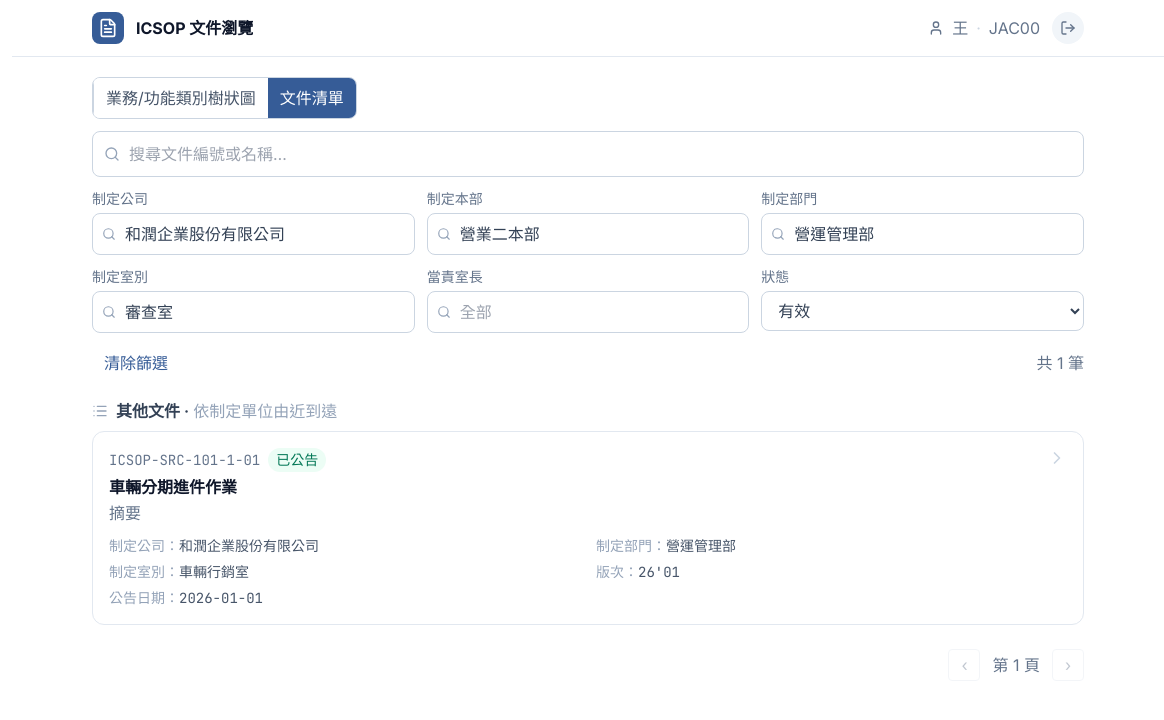
Test: AC-OC3：改上級清下級（同一次寫入網址） › 改公司 ⇒ mkdiv／mkdept／section 自網址移除
Expected: the heading "車輛分期進件作業" is shown, [109,477,237,497]
Click the dropdown labelled "制定公司" at [253, 234], box [92,213,415,255]
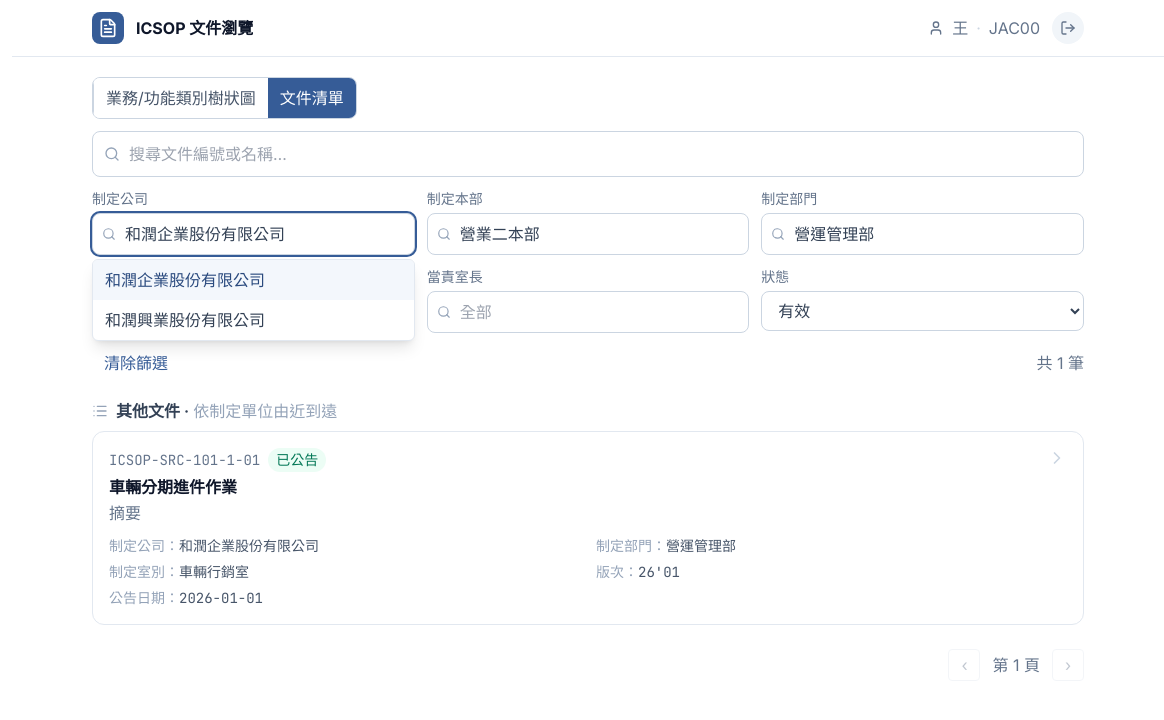
Click the option "和潤興業股份有限公司" at [253, 320], box [93,300,414,340]
(page scrolled)
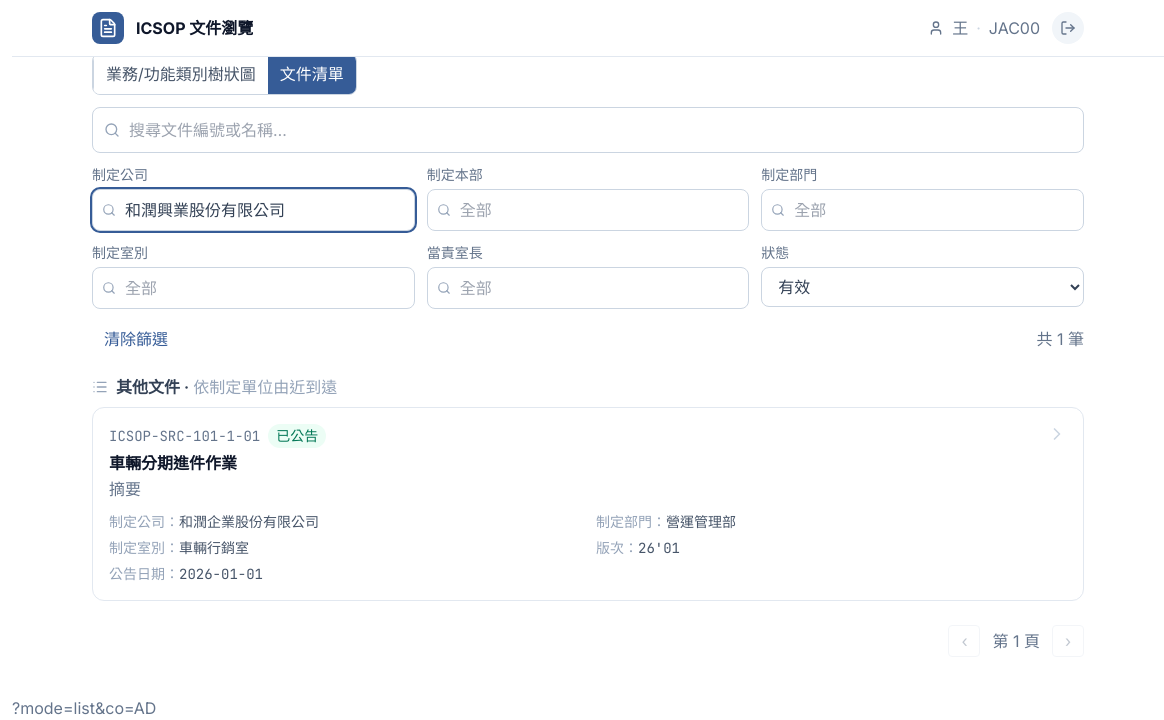
Expected: the text with test id "loc-search" shows "co=AD", [12,698,156,718]
